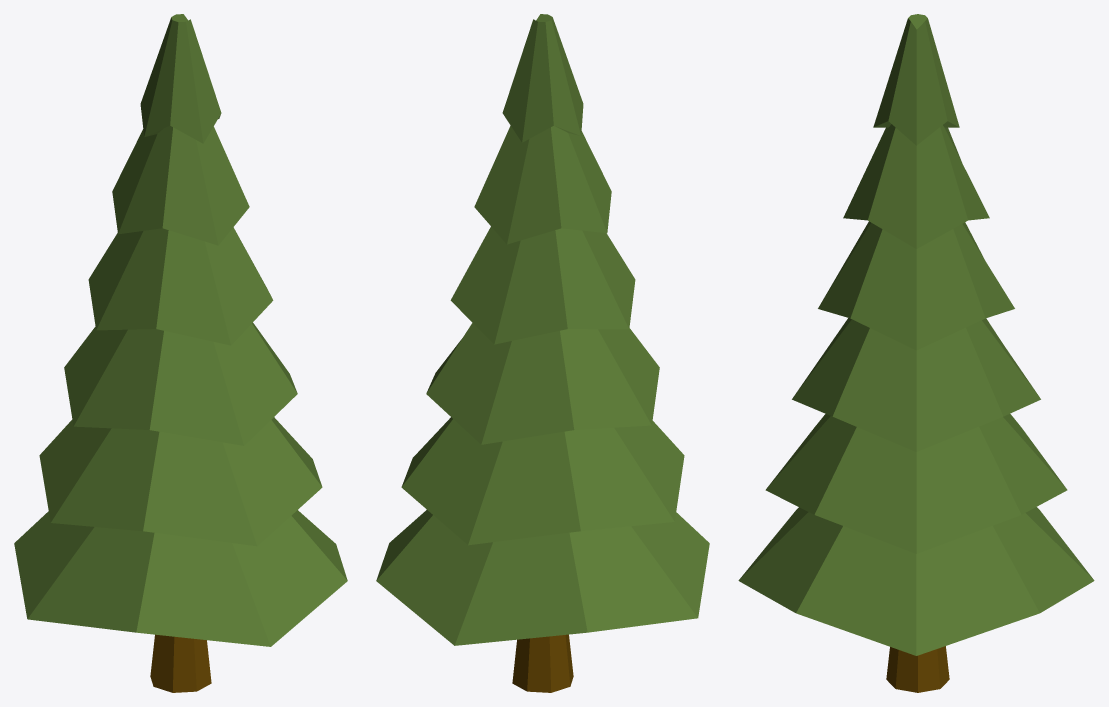
File: tree.gltf
The picture shows the model from 3 angles, left to right: view 1: azimuth 30°, elevation 25°; view 2: azimuth 150°, elevation 25°; view 3: azimuth 270°, elevation 25°; orthographic projection.
Parts seen in each view (by area): view 1: Leaf, Trunk; view 2: Leaf, Trunk; view 3: Leaf, Trunk.
Boxes of the visible parts, x1,y1,x2,y2 form: Leaf: (14,14,347,646); Trunk: (150,634,211,692); Leaf: (376,14,709,645); Trunk: (512,634,573,692); Leaf: (738,14,1094,655); Trunk: (886,646,949,692).
Bounding box in the file's own units: 3.68 × 7.54 × 3.68.
